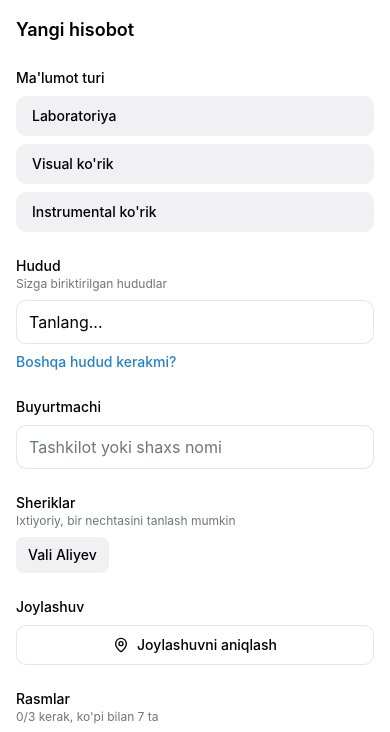
joylashuv › aniqlangach koordinatalar ko‘rinadi
This screenshot has width=390, height=732.
What coordinates should you click on to do the following:
click the button "Joylashuvni aniqlash"
I would click on:
 (195, 645)
Its box is left=16, top=625, right=374, bottom=665.
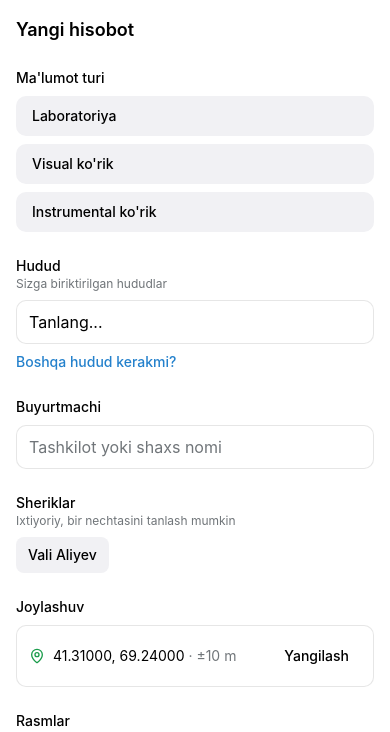
Now the text "41.31000, 69.24000 · ±10 m" is shown, box left=53, top=646, right=264, bottom=666
